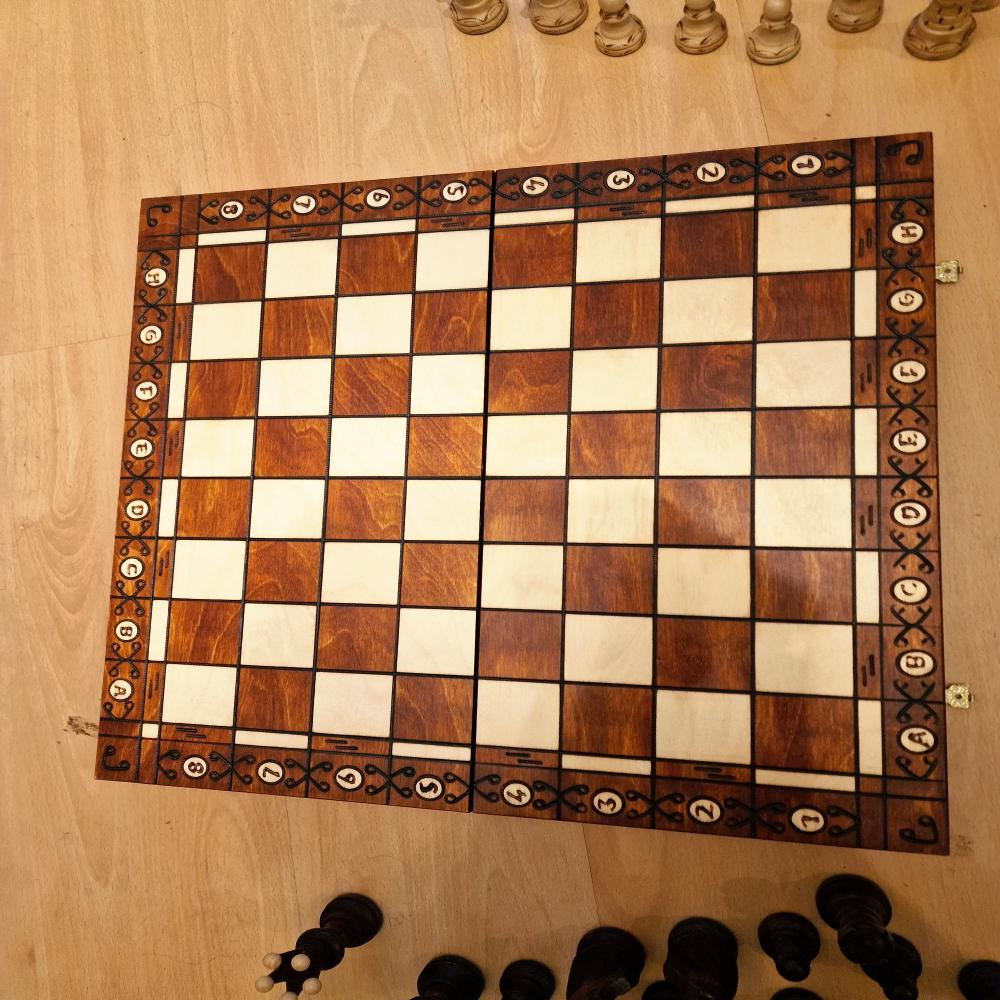A: (887, 702, 945, 775), (105, 658, 142, 722)
B: (884, 627, 943, 700), (110, 597, 148, 662)
C: (884, 554, 941, 627), (117, 539, 153, 600)
D: (886, 480, 936, 553), (124, 480, 157, 538)
E: (884, 408, 936, 477), (125, 418, 160, 477)
F: (882, 337, 940, 410), (126, 364, 172, 424)
G: (884, 268, 935, 338), (132, 307, 171, 363)
H: (881, 200, 932, 266), (140, 250, 173, 308)
chessboard-corners: (97, 132, 948, 859)
chessfield: (757, 692, 859, 777), (756, 623, 860, 701), (657, 617, 757, 694), (658, 691, 756, 767), (561, 613, 657, 688), (752, 550, 851, 620), (757, 480, 856, 549), (565, 687, 655, 762), (757, 273, 856, 341), (759, 411, 858, 477), (655, 549, 754, 615), (658, 411, 756, 477), (757, 343, 856, 408), (658, 479, 751, 547), (479, 678, 563, 752), (658, 347, 754, 411), (480, 611, 564, 684), (665, 276, 755, 344), (757, 208, 854, 271), (563, 547, 655, 612), (395, 675, 478, 747), (397, 608, 479, 678), (665, 212, 754, 275), (571, 415, 660, 478), (316, 605, 397, 674), (481, 545, 566, 610), (239, 600, 319, 669), (486, 480, 568, 547), (569, 480, 652, 546), (575, 284, 660, 348), (486, 352, 571, 416), (314, 672, 392, 740), (573, 350, 658, 412), (494, 286, 571, 354), (578, 220, 662, 282), (336, 294, 415, 359), (487, 416, 568, 479), (398, 544, 480, 605), (329, 416, 407, 479), (244, 539, 323, 601), (237, 668, 310, 734), (405, 480, 481, 543), (494, 228, 576, 286), (165, 600, 240, 663), (252, 478, 328, 540), (410, 416, 486, 478), (415, 291, 487, 356), (334, 357, 412, 416), (330, 479, 403, 542), (254, 417, 329, 478), (417, 230, 492, 290), (260, 299, 336, 358), (171, 539, 244, 599), (325, 544, 400, 601), (178, 479, 250, 537), (191, 302, 260, 362), (415, 356, 484, 416), (185, 418, 252, 479), (340, 238, 414, 293), (260, 359, 331, 415), (162, 669, 237, 722), (266, 241, 337, 296), (191, 360, 257, 419), (198, 246, 264, 303)
innerChessboard: (158, 203, 859, 775)
